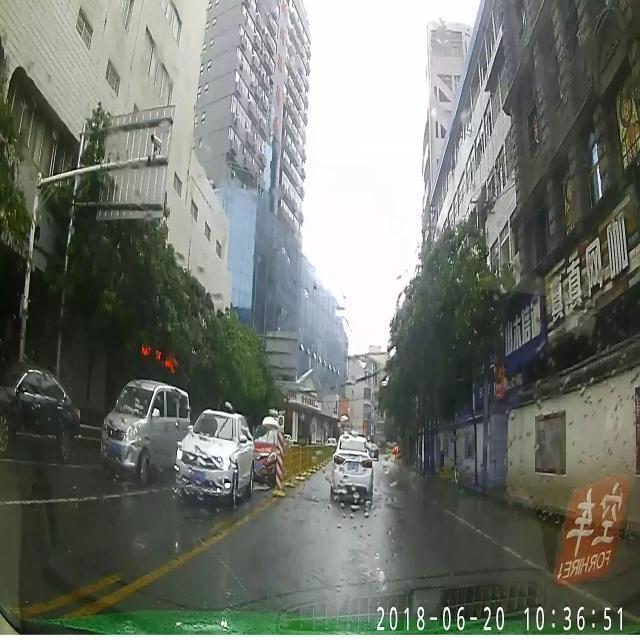car: (102, 378, 190, 476), (176, 410, 254, 502), (0, 368, 79, 457), (331, 434, 374, 507), (252, 425, 280, 480)
